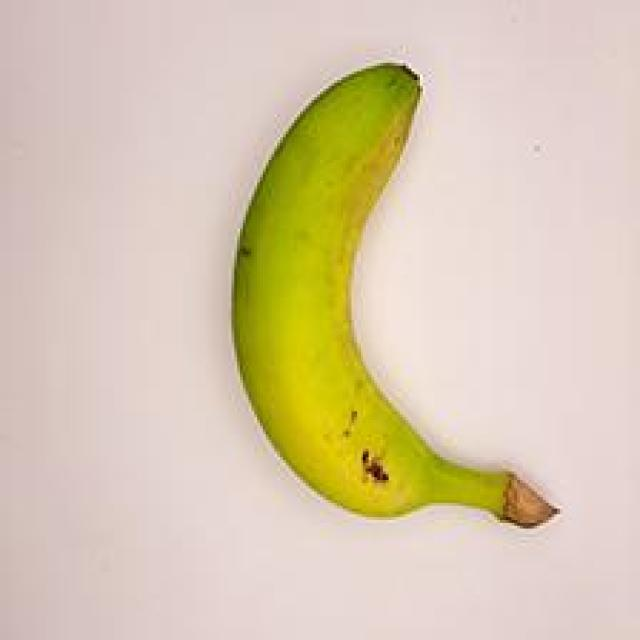Unripe: (200, 52, 571, 558)
